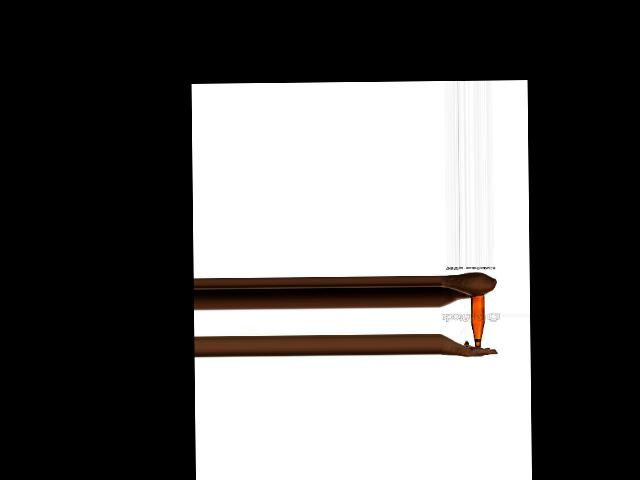beer: (470, 295, 484, 348)
